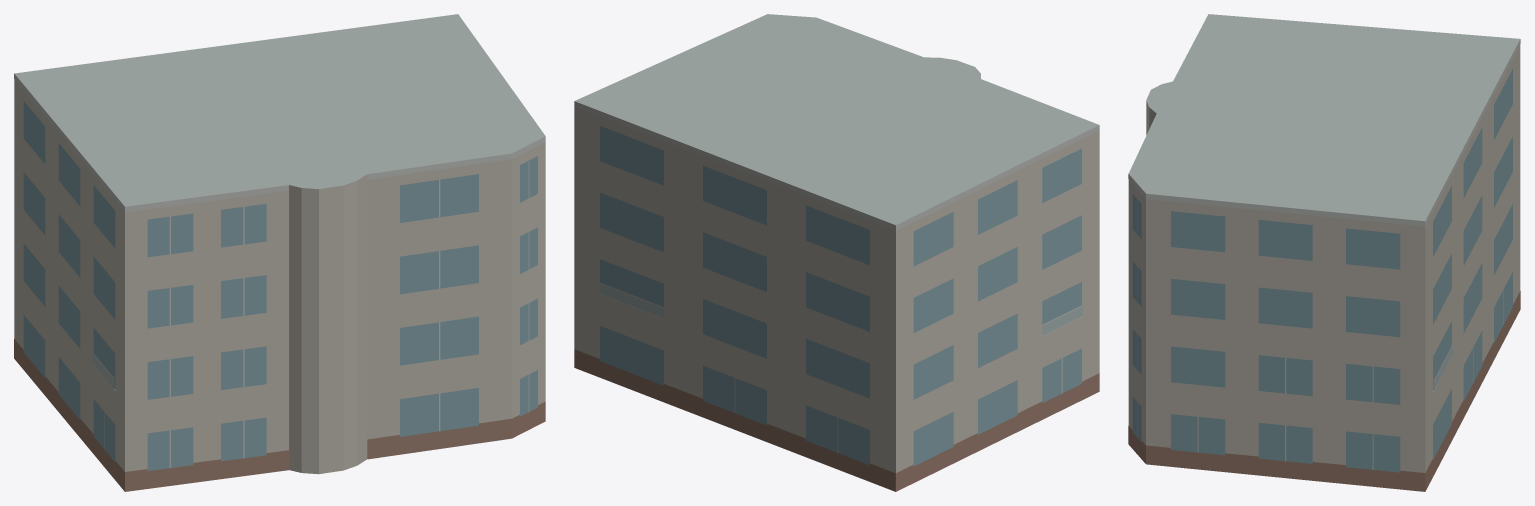
File: survey-upis-32830297.glb
3 views of the same model, side by side, from view 1: azimuth 30°, elevation 25°; view 2: azimuth 150°, elevation 25°; view 3: azimuth 270°, elevation 25° (orthographic). The views are drawn at different scales.
Parts seen in each view (by area): view 1: survey-upis-32830297.tmp; view 2: survey-upis-32830297.tmp; view 3: survey-upis-32830297.tmp.
Part boxes in pixels (box(x1,y1,x2,y2)): survey-upis-32830297.tmp: box(14, 14, 545, 491); survey-upis-32830297.tmp: box(574, 14, 1099, 491); survey-upis-32830297.tmp: box(1128, 14, 1520, 491).
Bounding box in the file's own units: 20.21 × 12.3 × 16.15.
